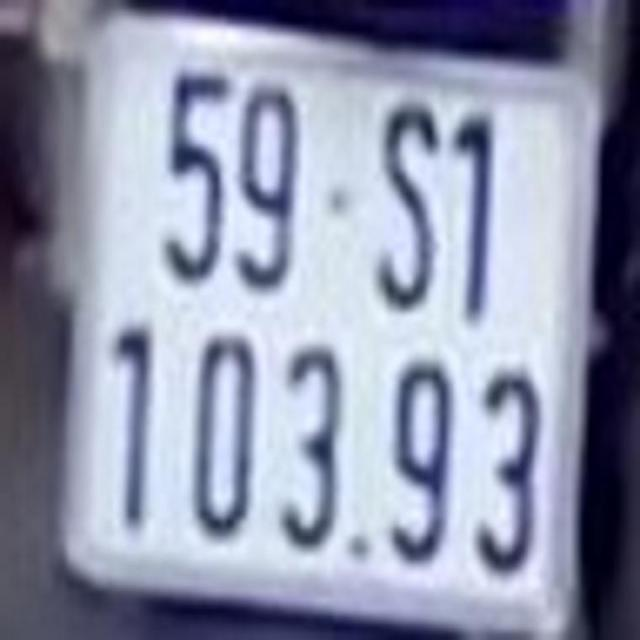0: (190, 320, 260, 544)
1: (105, 313, 163, 529), (450, 100, 504, 319)
3: (276, 324, 344, 558), (475, 358, 543, 584)
5: (168, 60, 228, 279)
9: (384, 346, 456, 572), (234, 76, 298, 294)
S: (374, 96, 441, 310)
